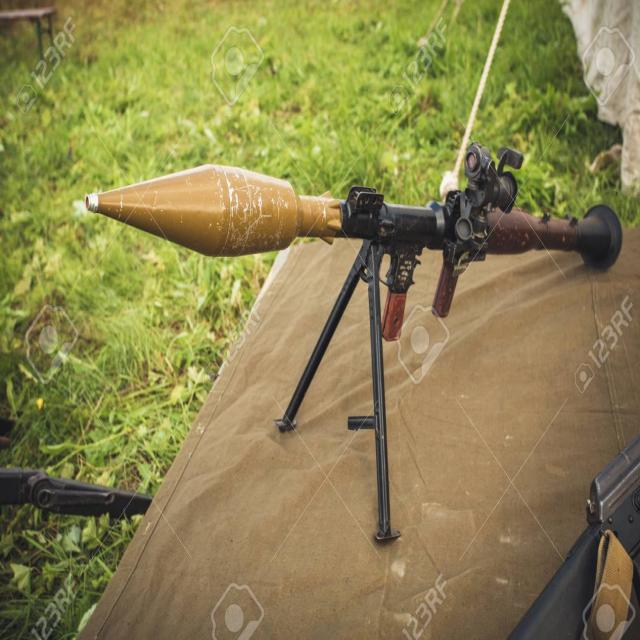Weapon: (85, 143, 621, 538)
